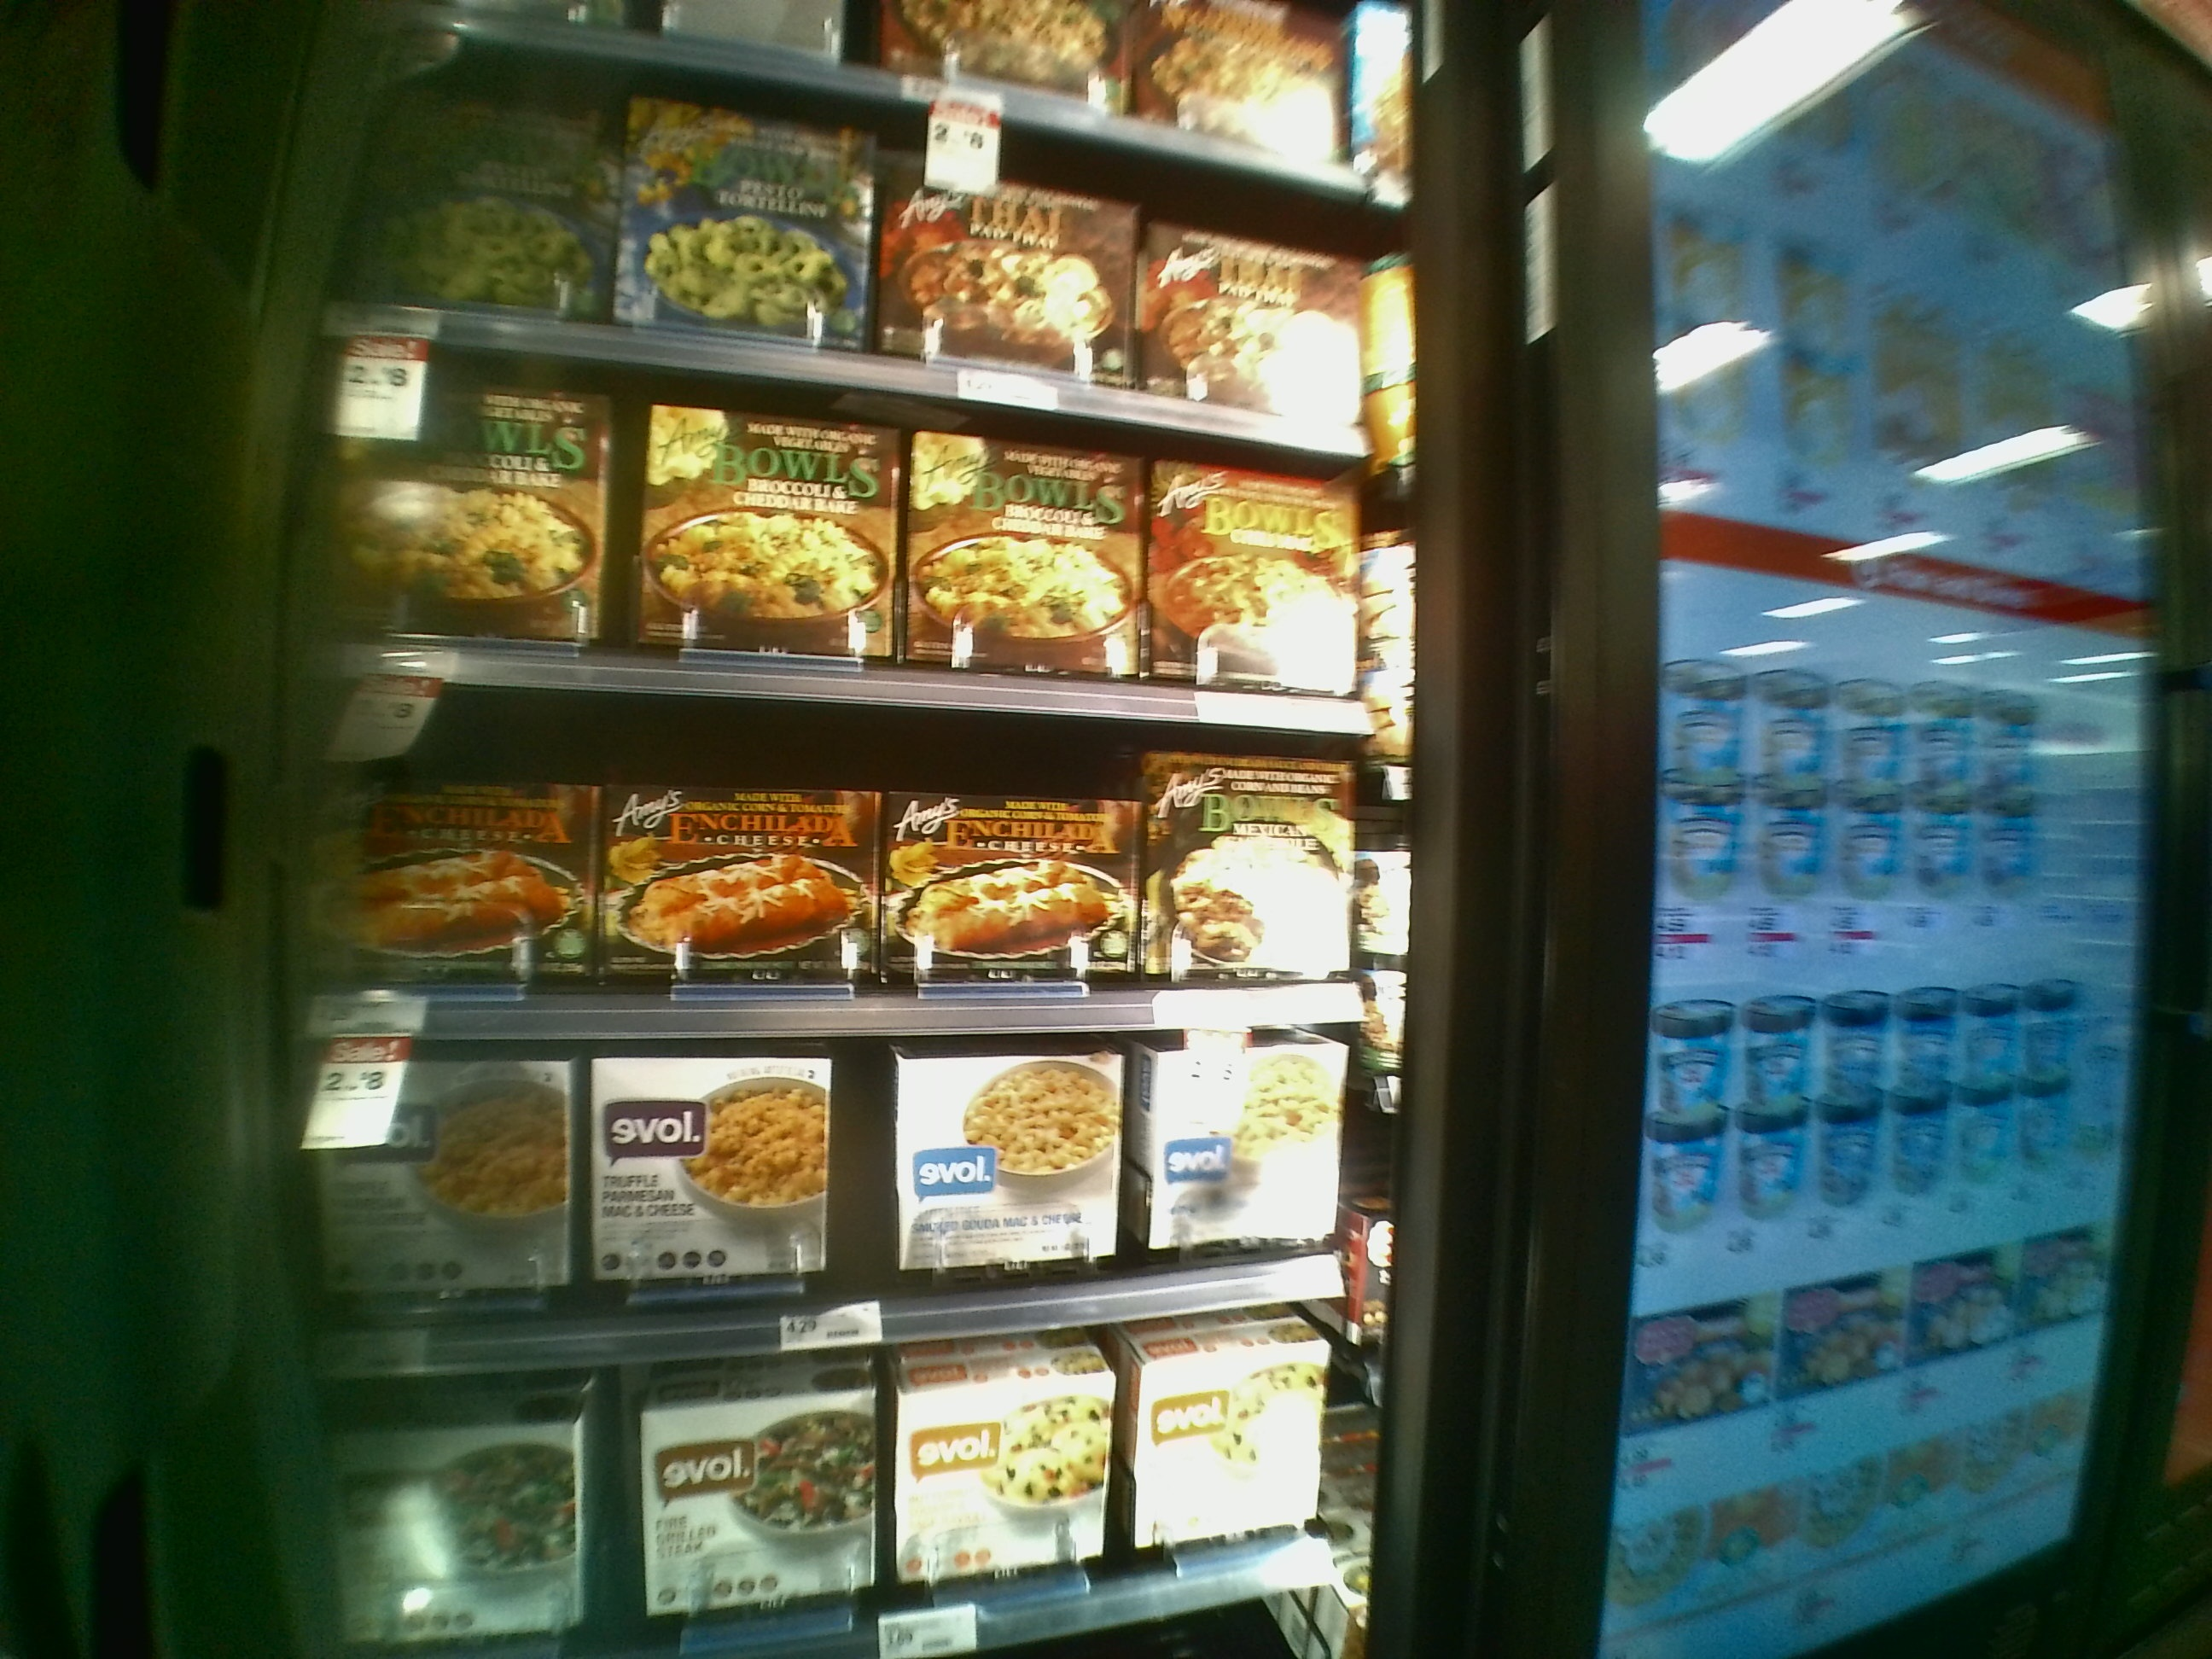shelf: (300, 708, 1402, 1028), (298, 1046, 1379, 1356), (307, 411, 1395, 716), (315, 1371, 1381, 1659)
